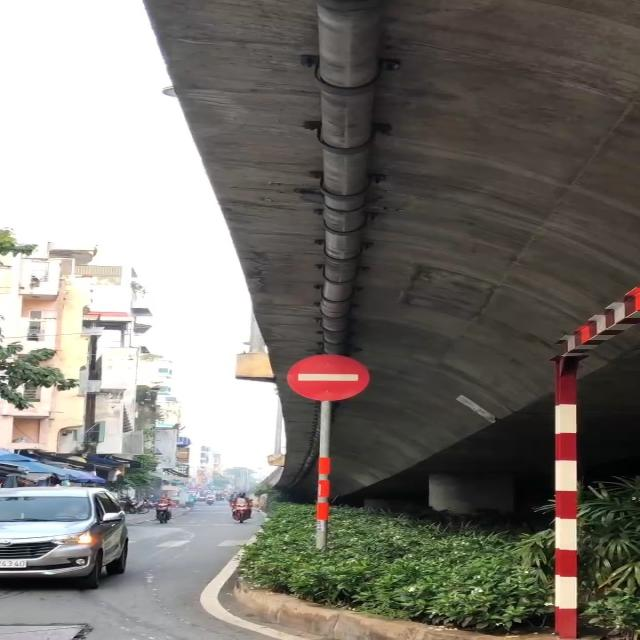Bien bao cam di nguoc chieu: (283, 348, 374, 404)
